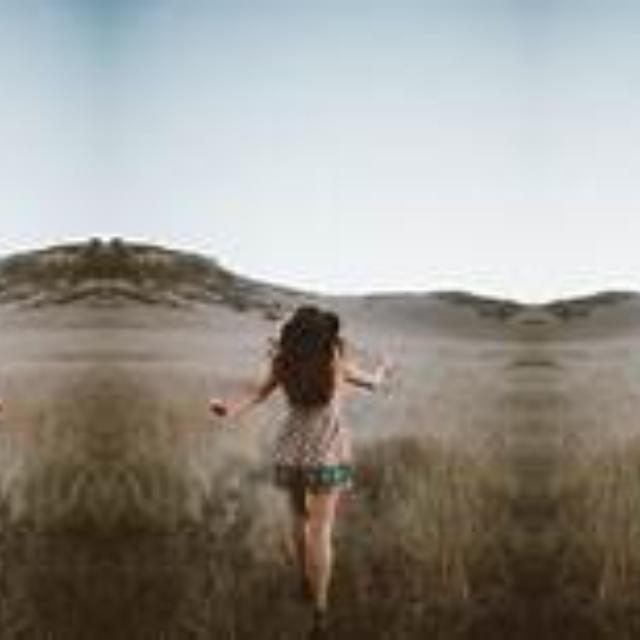person: (214, 284, 406, 640)
